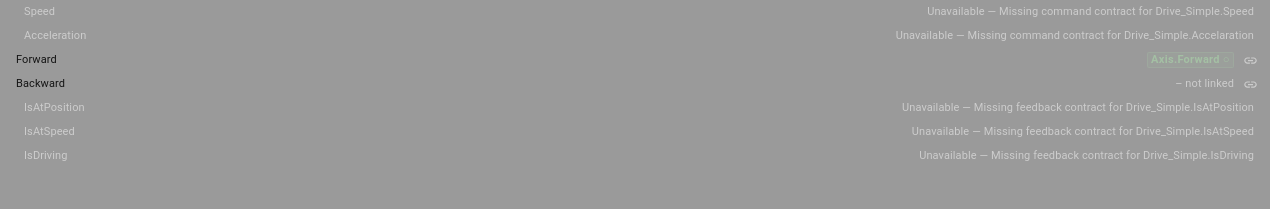
Scenario: inline empty slot rows (plan-325 9.5) › excludes the slot's own target signal from the internal picker group (self-binding)
Click the button named "signal for Forward": (1250, 60) [1238,48,1262,72]
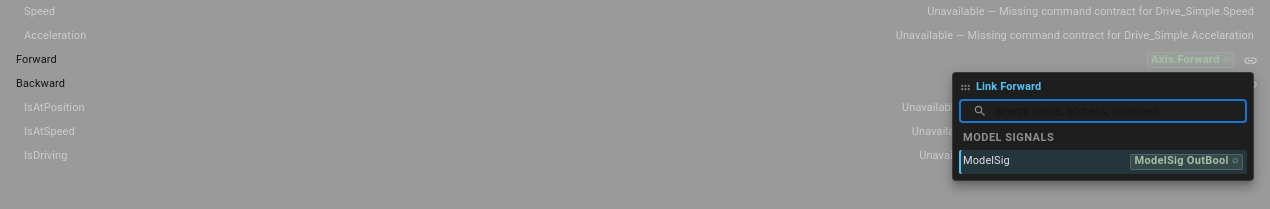
Expected: the dropdown with placeholder "Search name, address, comment…" is shown, [995,100,1247,123]
Expected: the option "ModelSig ModelSig OutBool ○" is shown, [959,150,1247,174]
